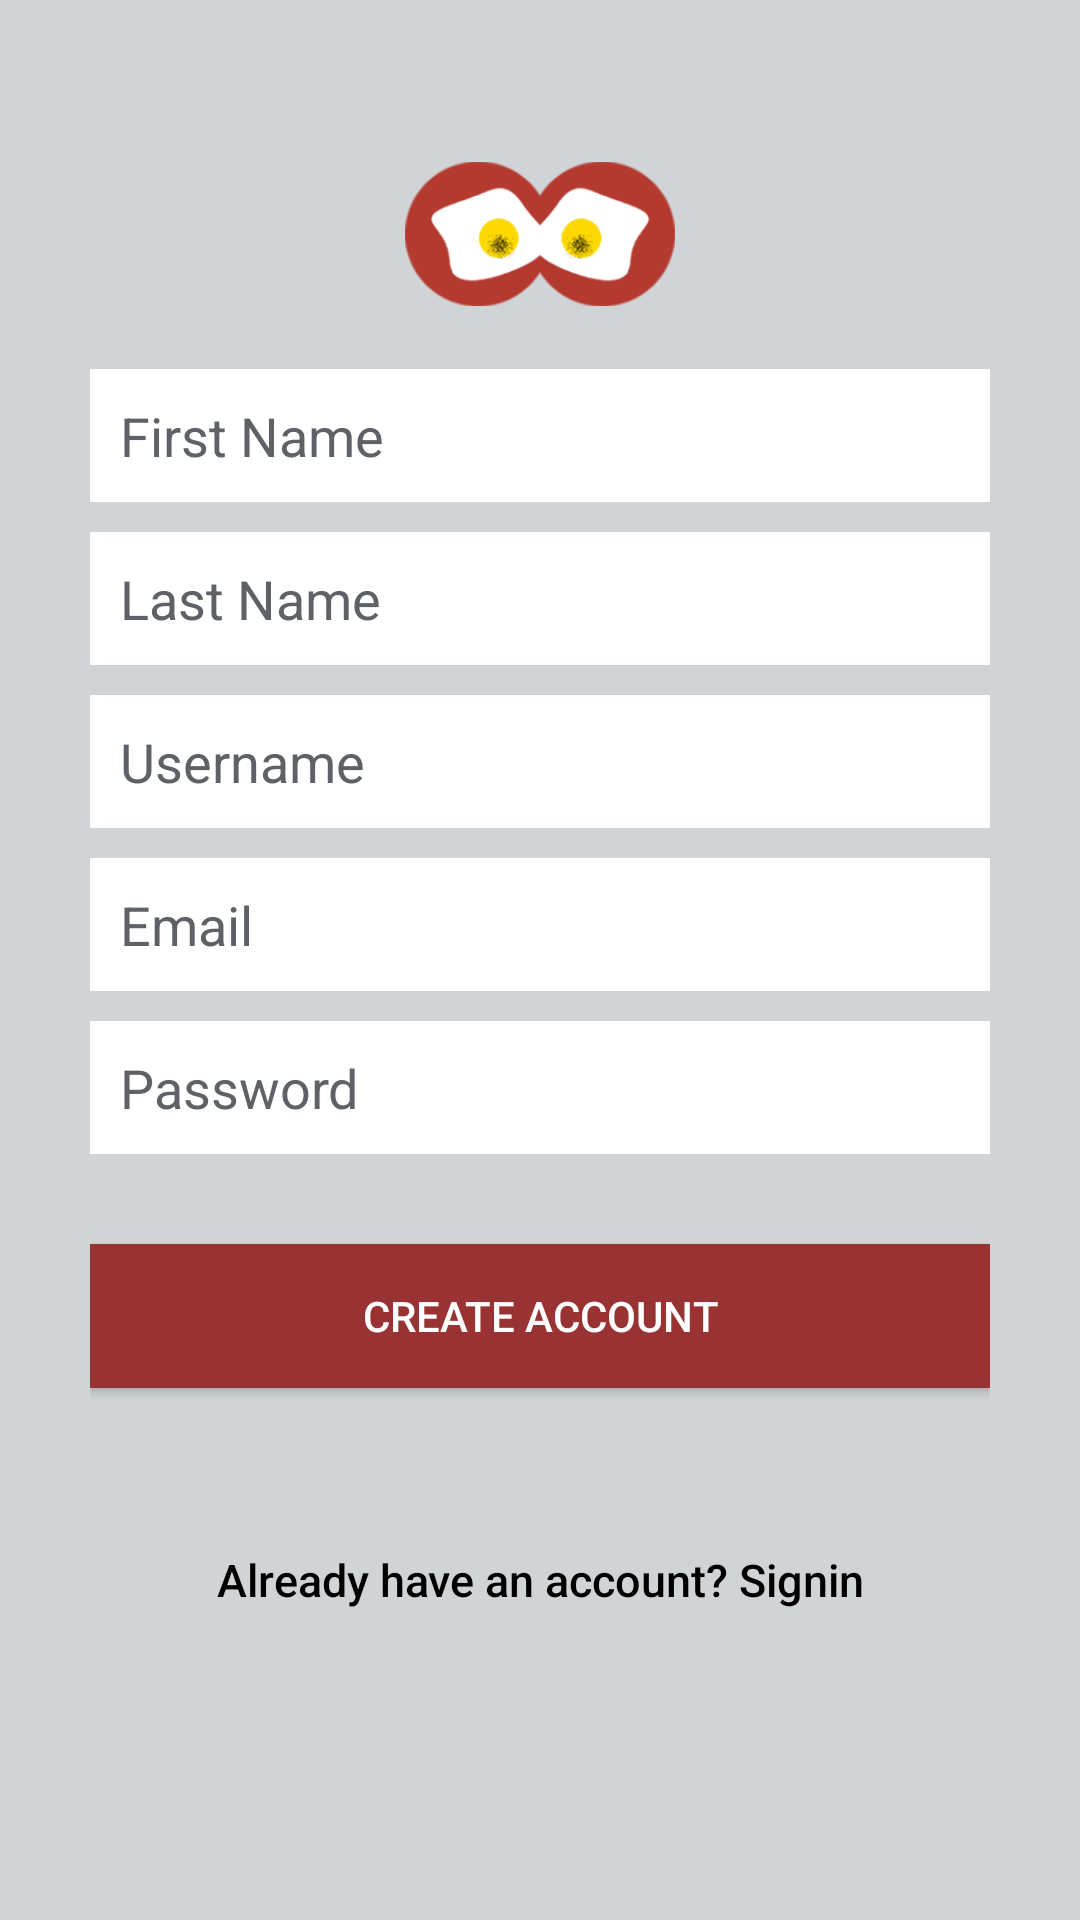

Screen size 1080px×1920px. Icon name, then its box in pixels as (x1, y1, x2, y2):
eyes: (405, 162, 675, 306)
